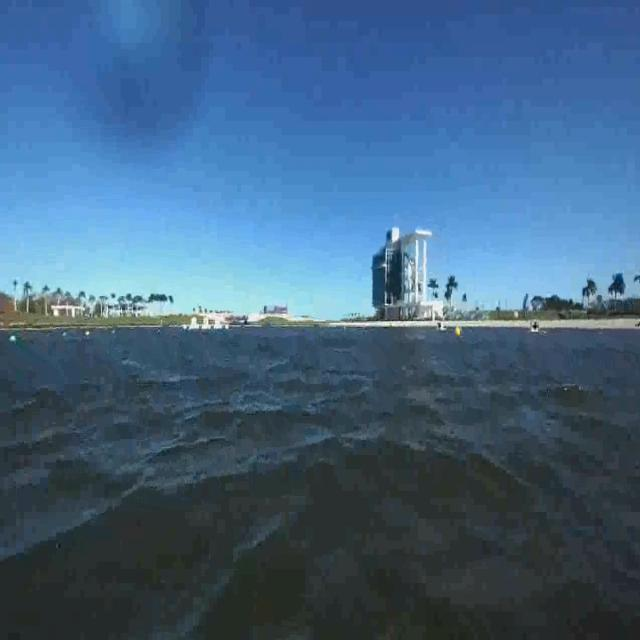yellow-buoy: (455, 325, 463, 337)
